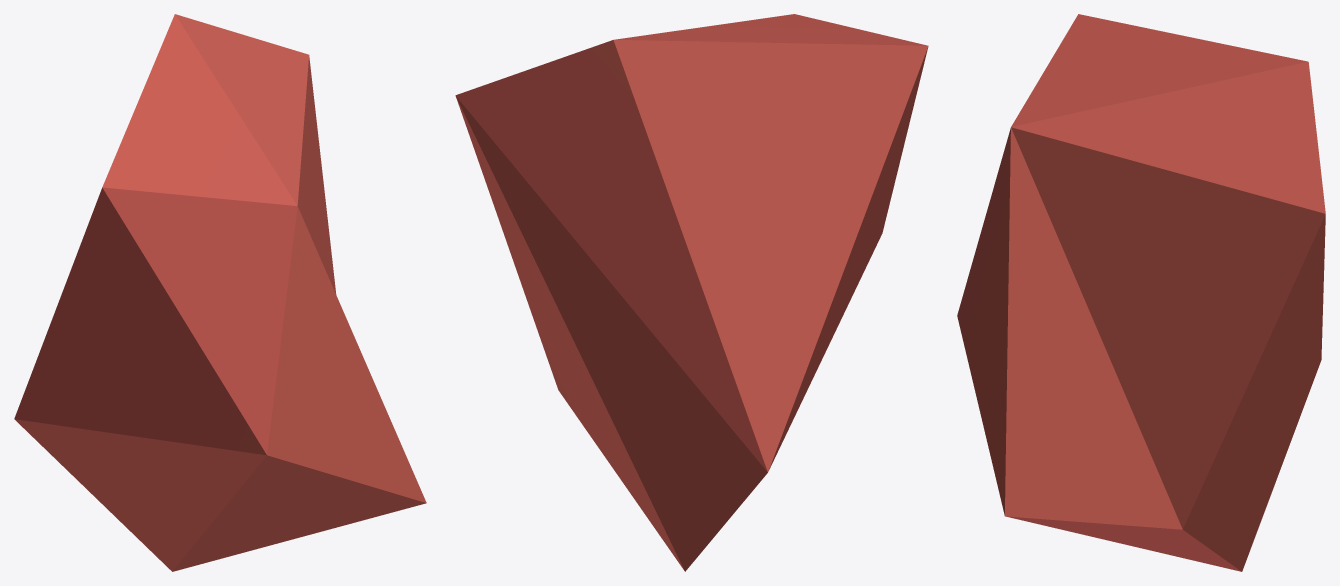
Rendered from littleredrock4.fbx.
3 views of the same model, side by side, from view 1: azimuth 30°, elevation 25°; view 2: azimuth 150°, elevation 25°; view 3: azimuth 270°, elevation 25° (orthographic). The views are drawn at different scales.
Visible parts, largest first — view 1: rock.011; view 2: rock.011; view 3: rock.011.
Boxes of the visible parts, <box> form: rock.011: <box>14,14,426,571</box>; rock.011: <box>455,14,928,571</box>; rock.011: <box>957,14,1325,571</box>.
Size of the model in its own units: 36.5 by 55.5 by 35.14.
